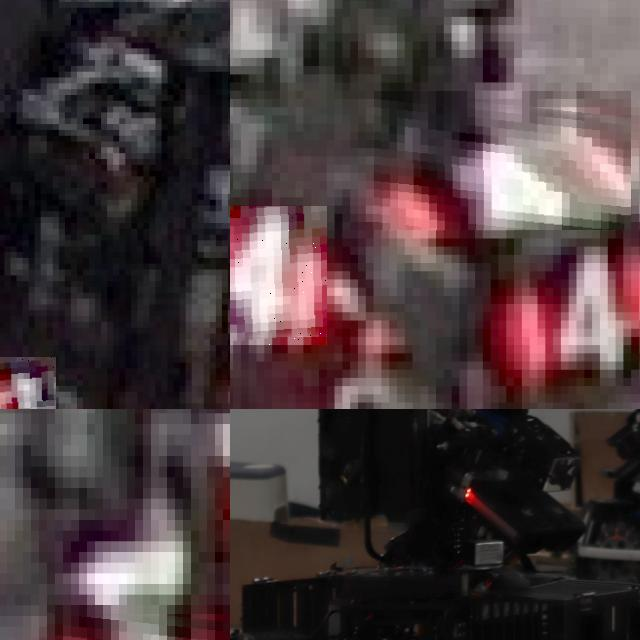R2: (0, 356, 56, 409)
R3: (47, 605, 230, 640)
R4: (374, 91, 631, 230), (514, 246, 640, 378), (230, 205, 326, 345)
